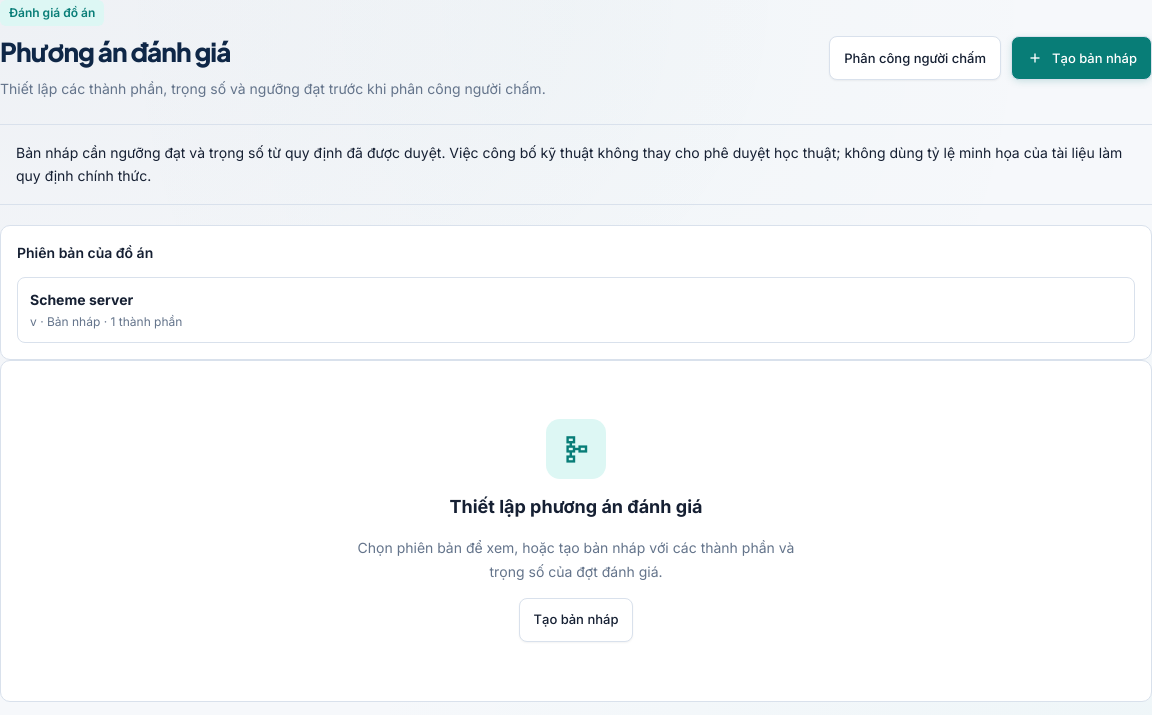
Scenario: requires explicit draft threshold and weights rather than proposed academic defaults
The image size is (1152, 715).
Check: the button "Scheme server v · Bản nháp · 1 thành phần" is shown, box [17, 277, 1135, 343]
Click the 1st button "Tạo bản nháp" at x=1082, y=58, box [1011, 36, 1151, 80]
(page scrolled)
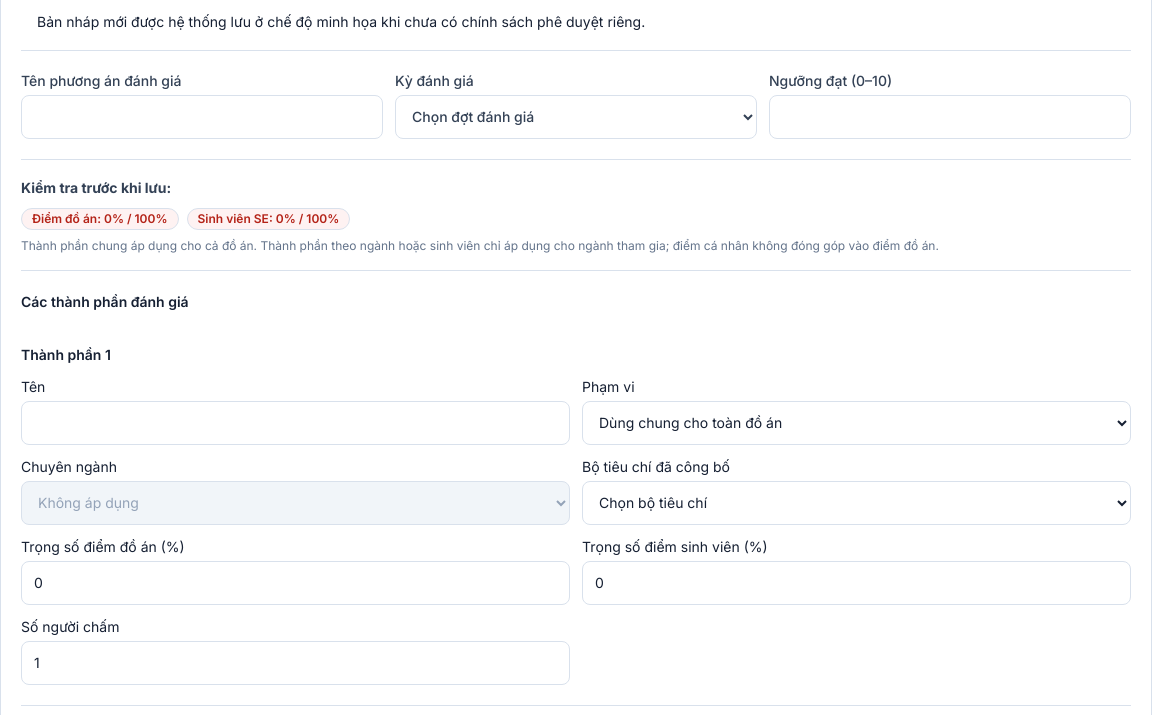
Check: the number field labelled "Ngưỡng đạt (0–10)" is empty, box [769, 95, 1131, 139]
Check: the number field labelled "Trọng số điểm đồ án (%)" holds "0", box [21, 561, 570, 605]
Submit the form named "Tên phương án đánh giá"
(page scrolled)
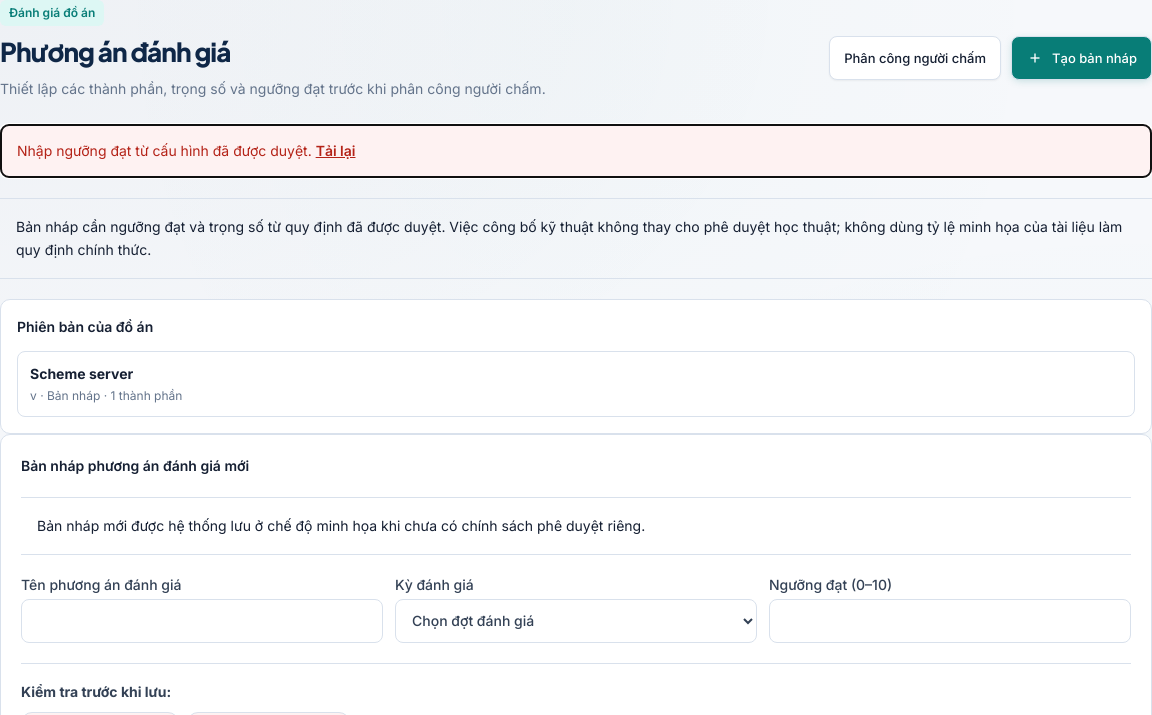
Check: the message "Nhập ngưỡng đạt từ cấu hình đã được duyệt. Tải lại" is shown, box [0, 124, 1151, 178]
